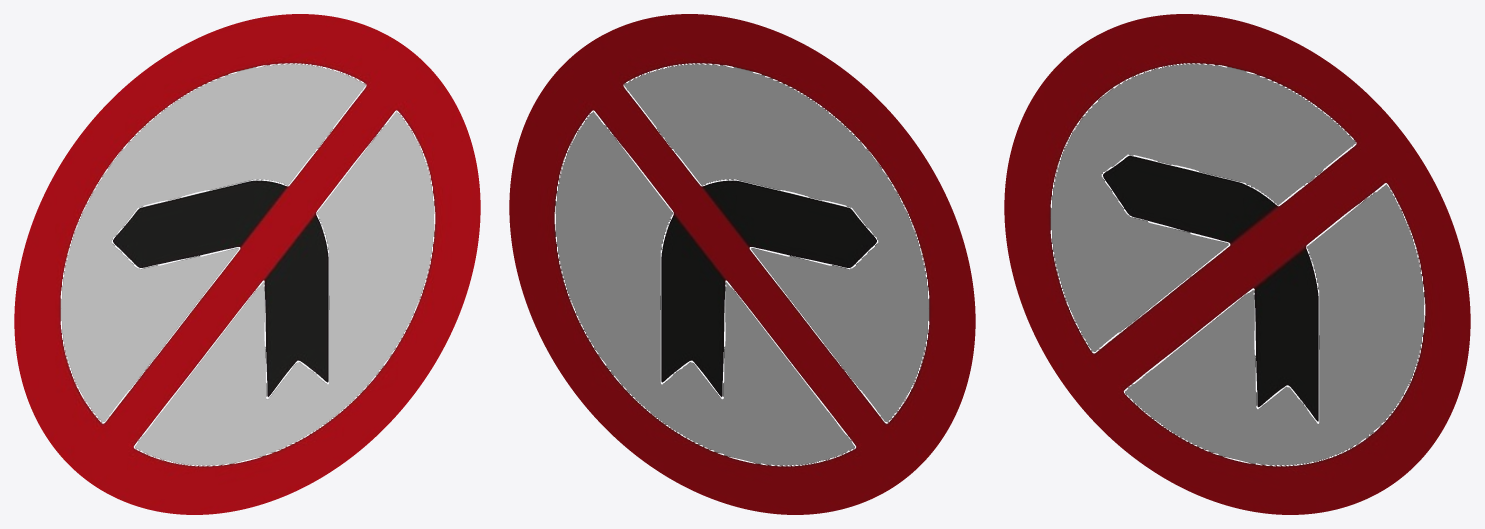
The model's file is sola-donulmez.dae.
The picture shows the model from 3 angles, left to right: view 1: azimuth 30°, elevation 25°; view 2: azimuth 150°, elevation 25°; view 3: azimuth 330°, elevation 25°; orthographic projection.
Parts seen in each view (by area): view 1: Circle; view 2: Circle; view 3: Circle.
Boxes of the visible parts, box(x1,y1,x2,y2) form: Circle: box(14, 14, 480, 514); Circle: box(509, 14, 975, 514); Circle: box(1004, 14, 1470, 514).
Bounding box in the file's own units: 0.24 × 1.05e-08 × 0.24.
